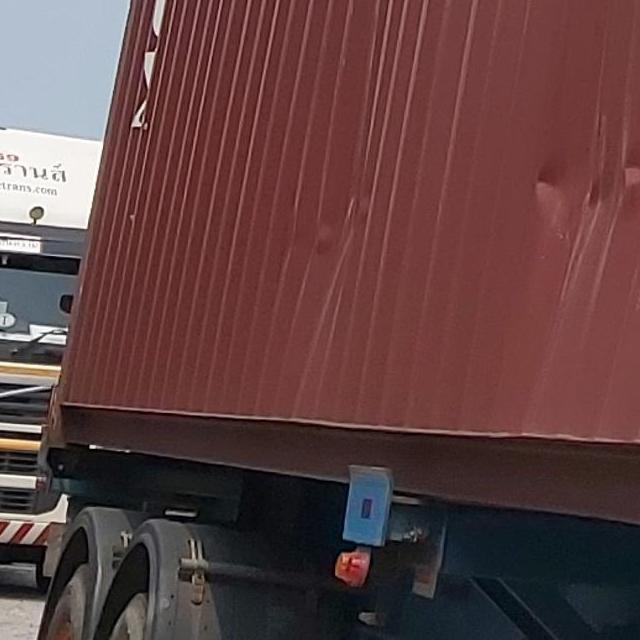dent: (522, 87, 640, 314), (290, 85, 395, 335)
